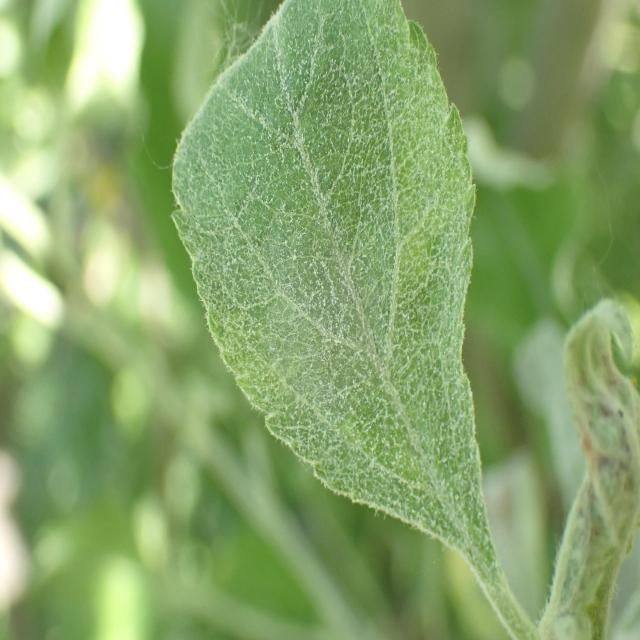Powdery_mildew: (153, 0, 507, 590), (527, 288, 640, 640)
